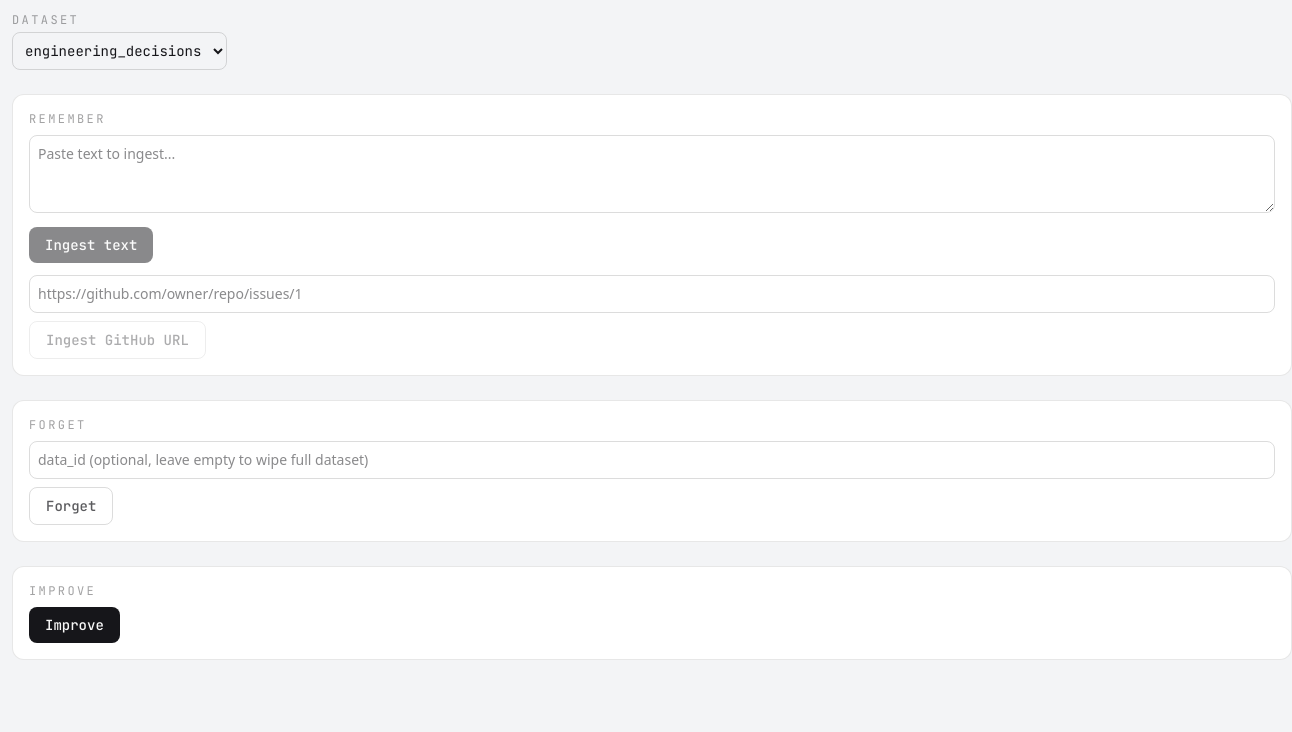
Scenario: LifecyclePage › shows a contradiction warning immediately after ingest flags one
The image size is (1292, 732).
In the text box with placeholder "Paste text to ingest...": (652, 174) left=29, top=135, right=1275, bottom=213, type "we now use RS256"
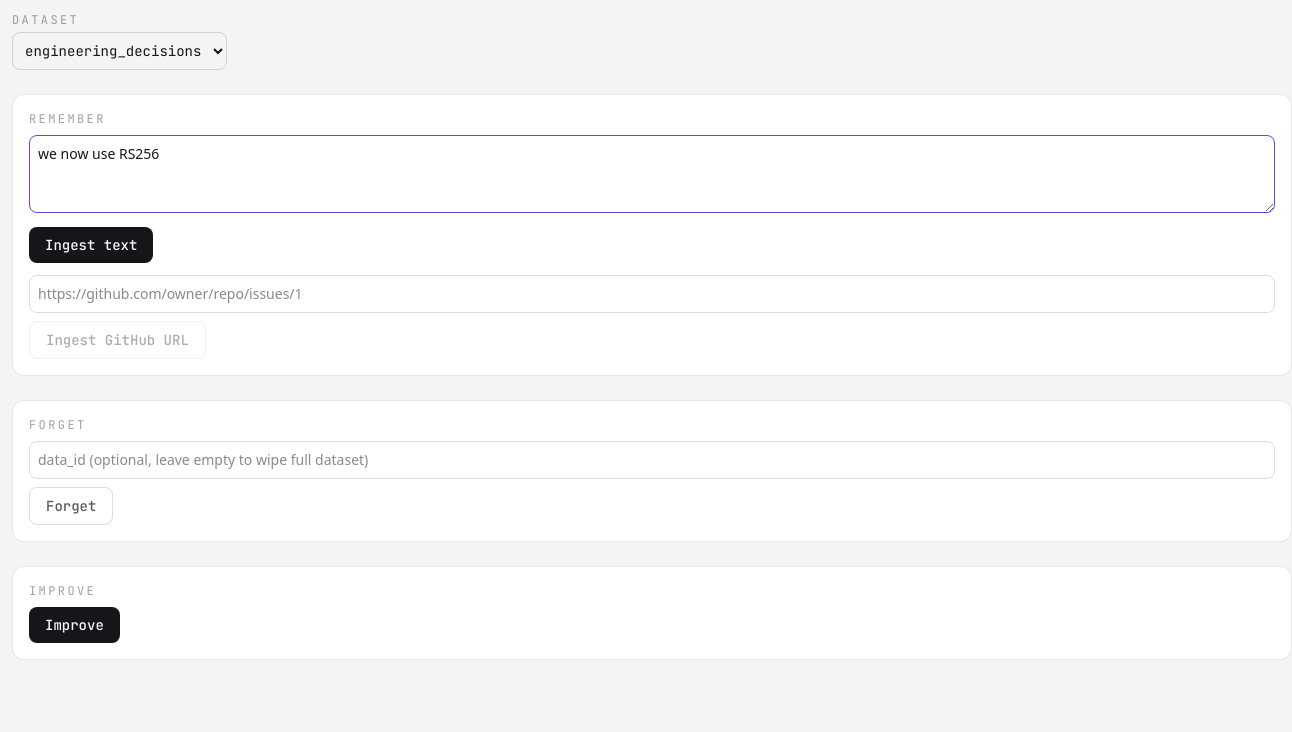
Click the button "Ingest text": (91, 245) left=29, top=227, right=153, bottom=263
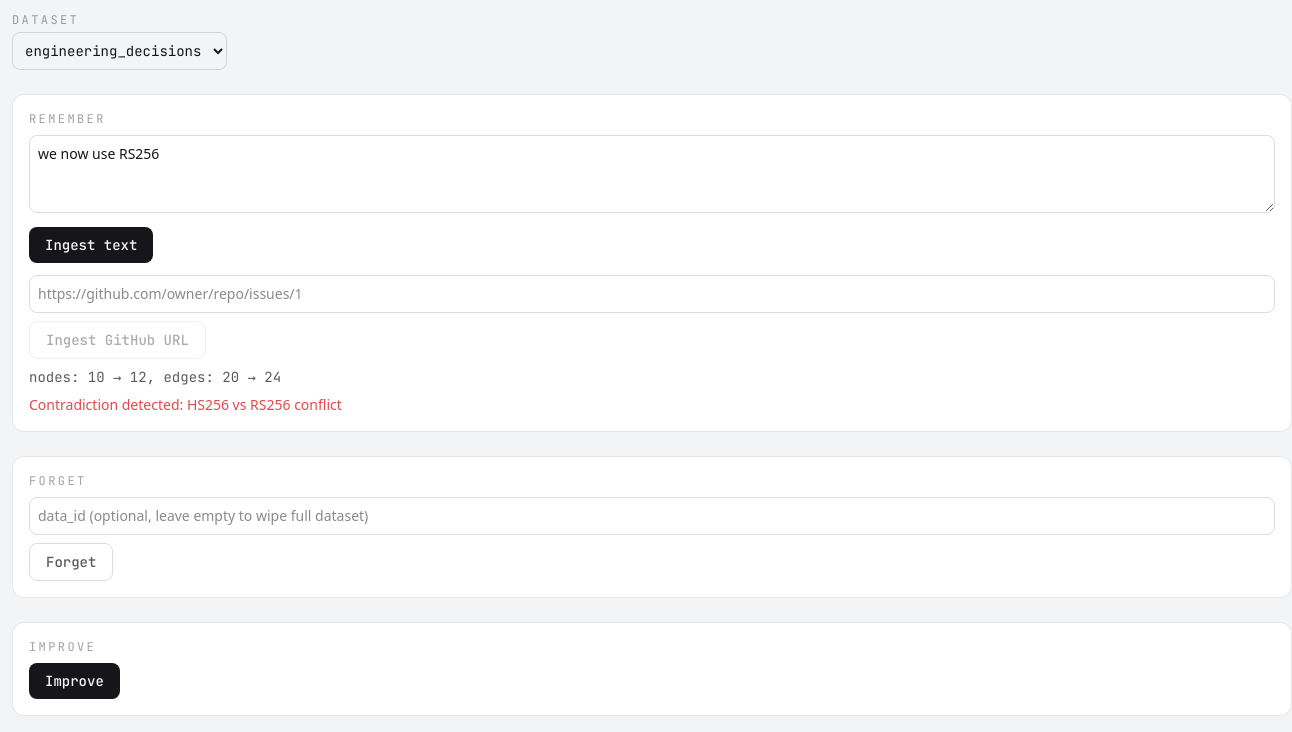
Expected: the text "Contradiction detected: HS256 vs RS256 conflict" is shown, left=29, top=395, right=342, bottom=414
